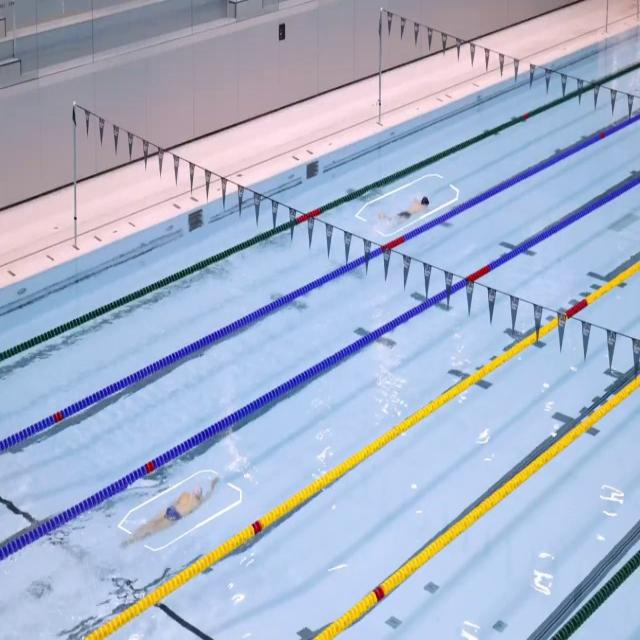Swimming: (121, 474, 219, 550), (378, 192, 432, 231)
